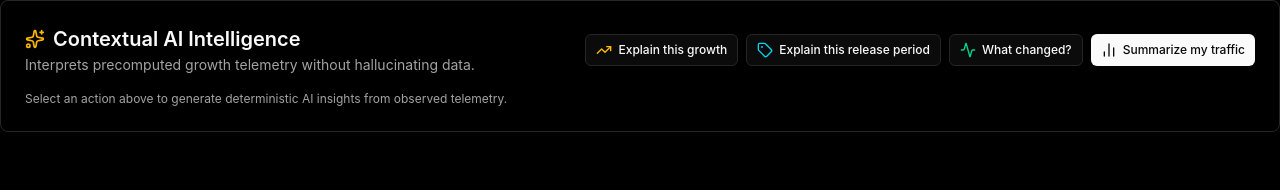
Scenario: InsightsPanel › renders and handles 'Explain this release period' when release context is present
Click the button "Explain this release period": (844, 50) 746,34 -> 941,66
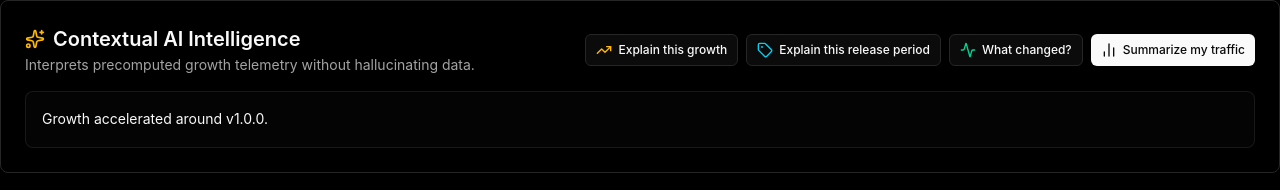
Expected: the text "Growth accelerated around v1.0.0." is shown, 25,91 -> 1255,148
